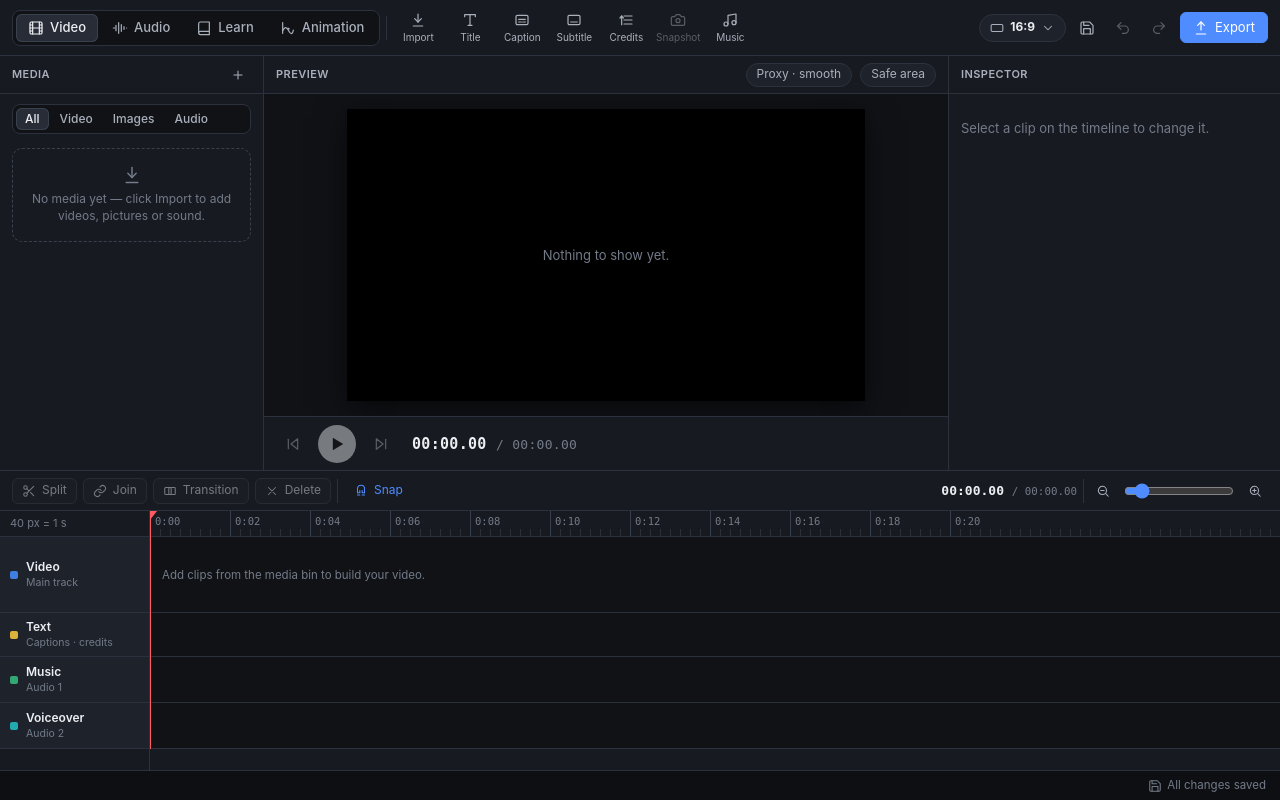
Scenario: Audio mode layout › the side panel explains the uncompressed size and lists the History
Step 1. Click the 1st button "Audio" → point(141, 28), box [100,14,182,42]
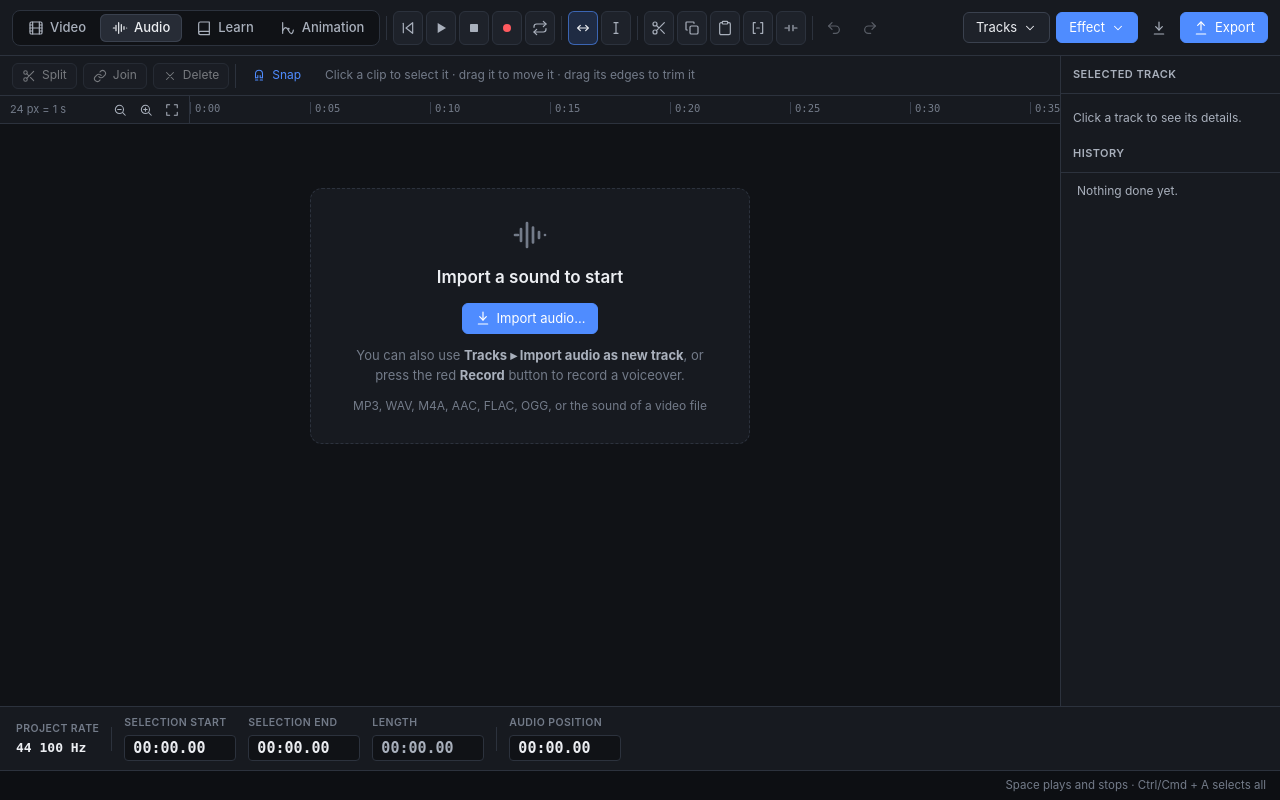
Step 2. Click the button named "Import audio" → point(1159, 28), box [1144,12,1174,42]
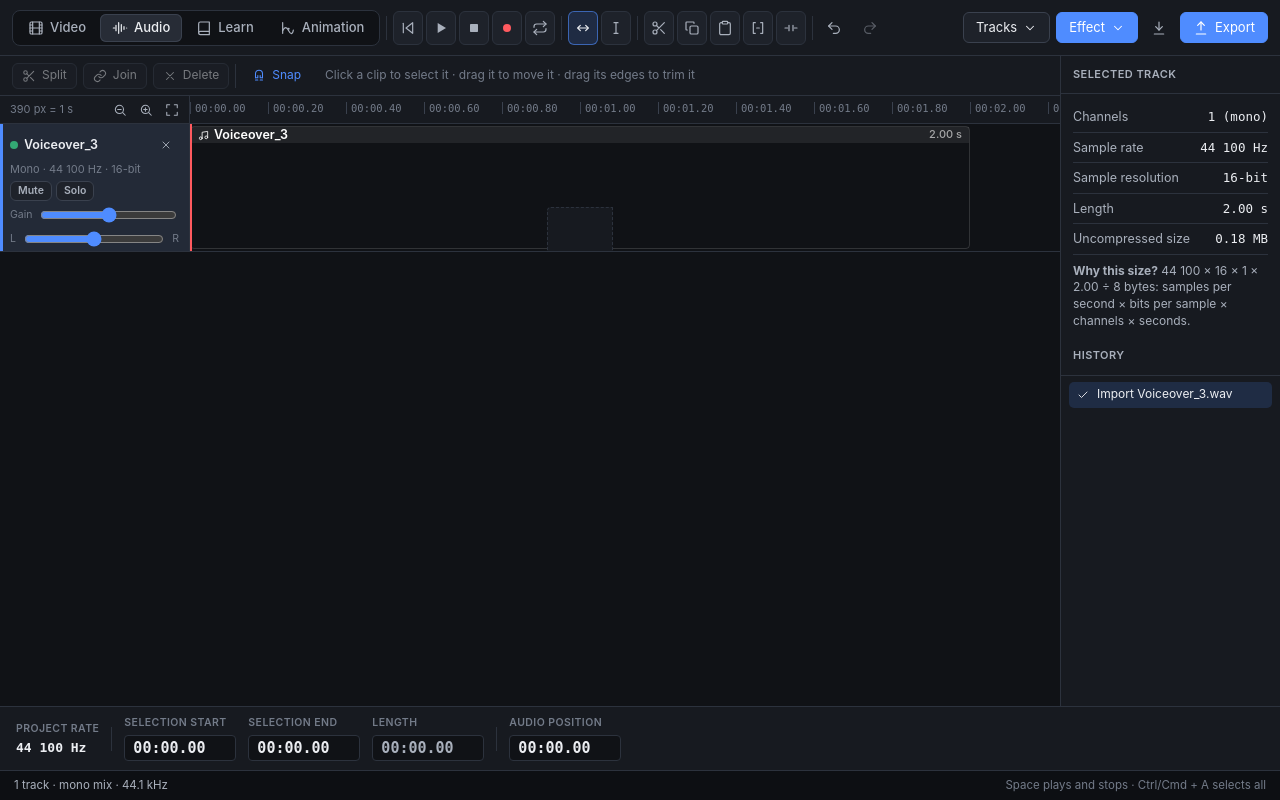
Expected: the text "1 (mono)" is shown, [1196,102,1268,132]
Expected: the text "0.18 MB" is shown, [1196,224,1268,254]
Expected: the text "44 100 × 16 × 1 × 2.00 ÷ 8" is shown, [1073,262,1258,328]
